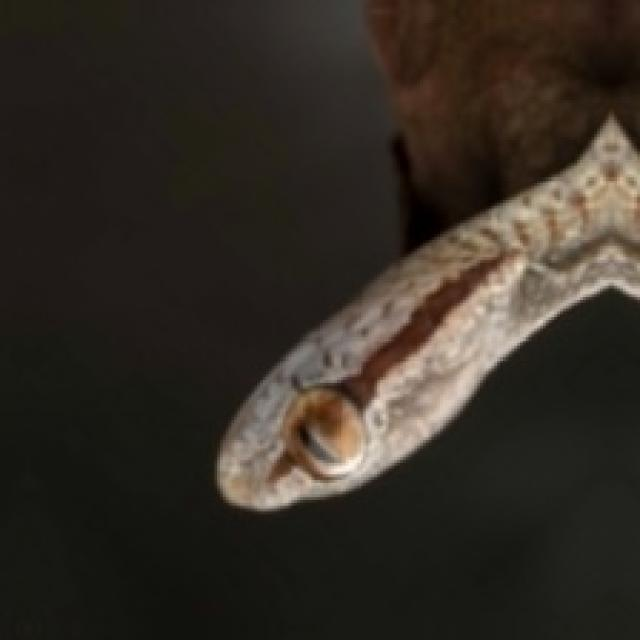dog-toothed cat snake: (217, 114, 637, 509)
